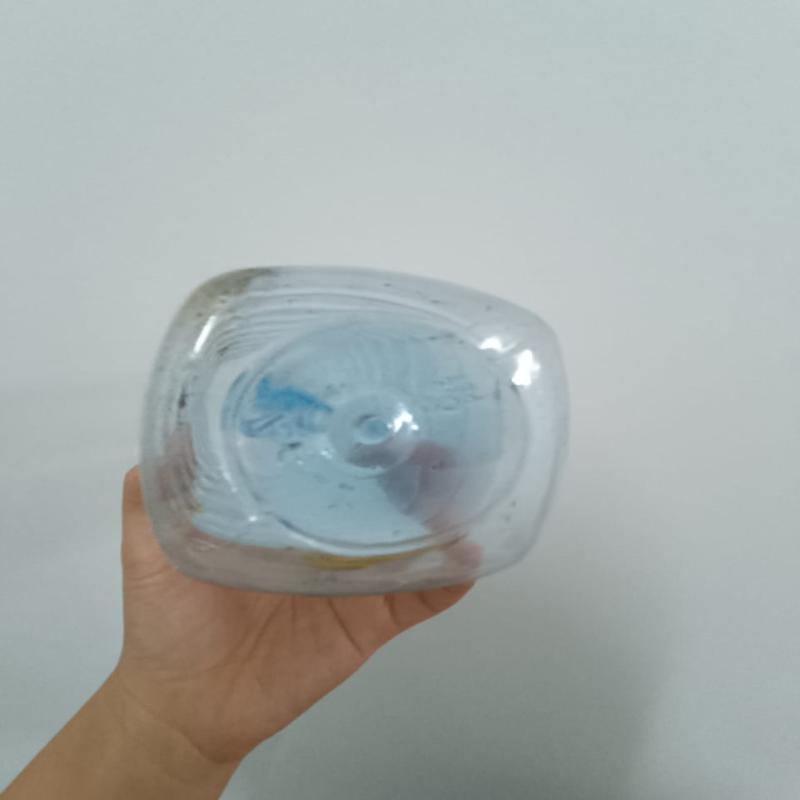botella: (137, 257, 575, 609)
